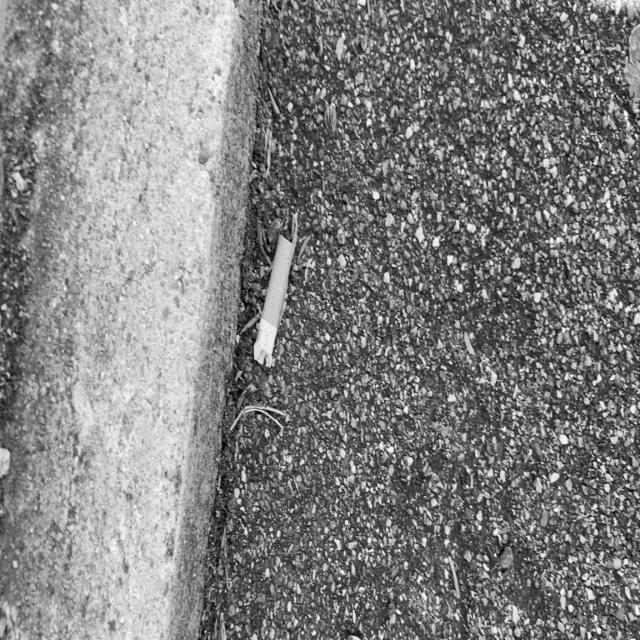other waste: (253, 232, 295, 368)
